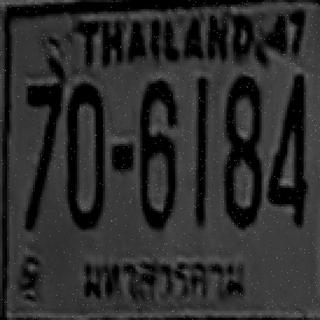N00: (138, 132, 175, 227), (224, 74, 259, 144)
N07: (27, 84, 60, 158)
P25: (74, 252, 253, 305)
